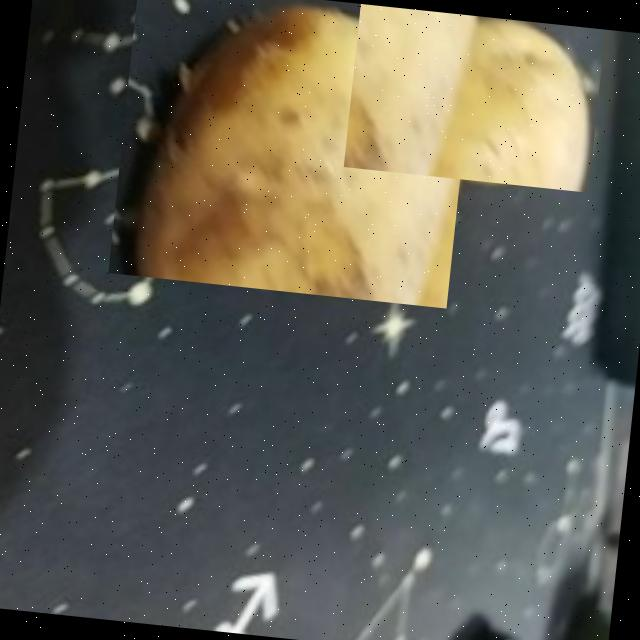Damaged potato: (108, 0, 477, 307)
Potato: (343, 2, 605, 192)
